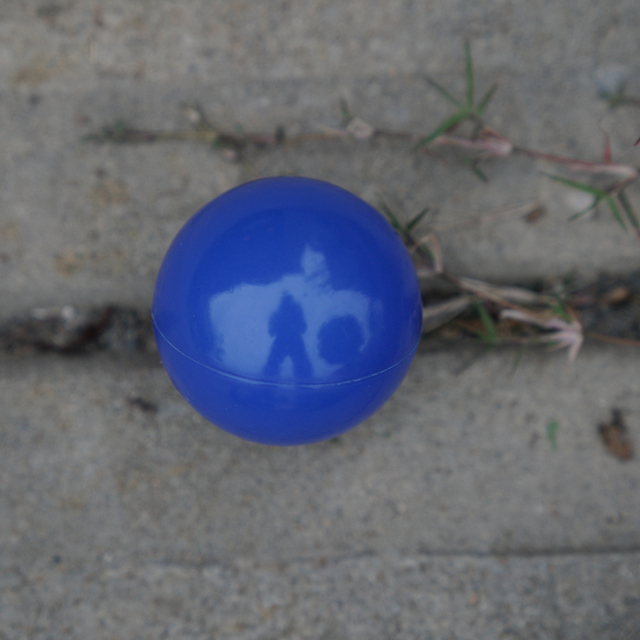Ball: (155, 175, 421, 446)
